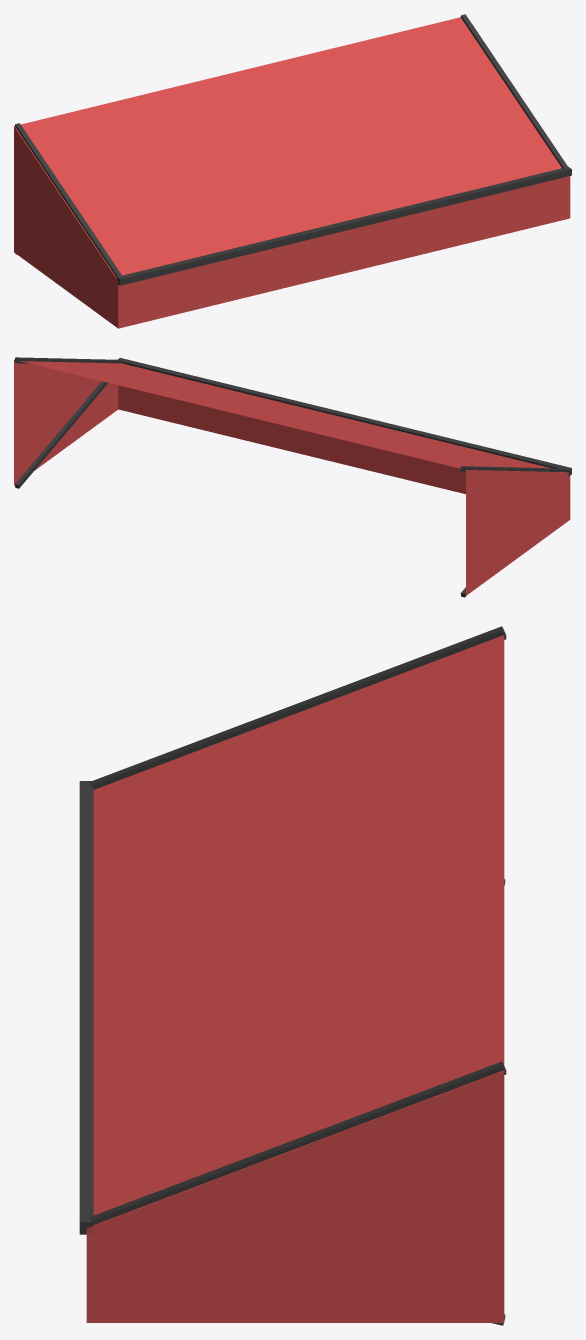
Rendered from awning_fabric_3m.glb.
The picture shows the model from 3 angles, top to bottom: view 1: azimuth 30°, elevation 25°; view 2: azimuth 150°, elevation 25°; view 3: azimuth 270°, elevation 25°; orthographic projection. The views are drawn at different scales.
Parts seen in each view (by area): view 1: awning; view 2: awning; view 3: awning.
Boxes of the visible parts, x1,y1,x2,y2 form: awning: [14, 14, 571, 328]; awning: [14, 357, 571, 597]; awning: [79, 626, 506, 1325].
Bounding box in the file's own units: 3 × 0.826 × 1.23.
